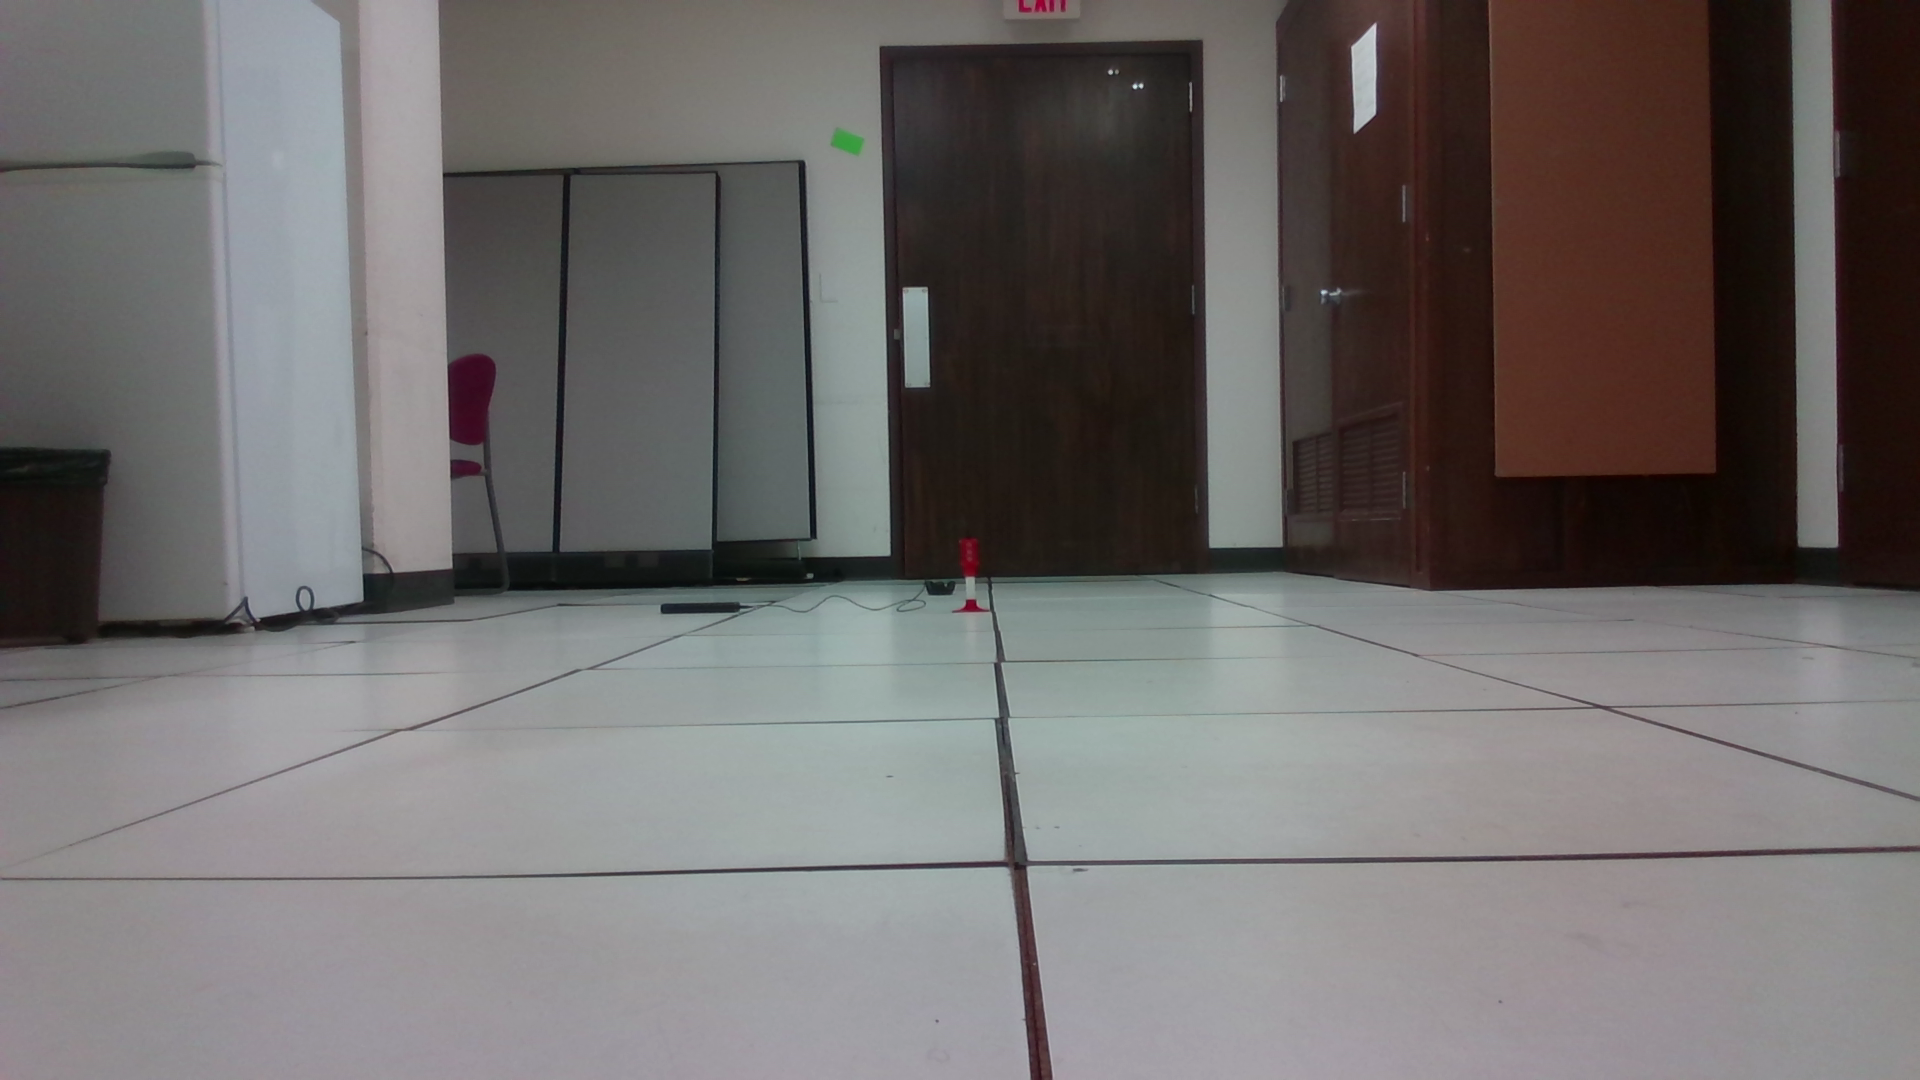stoplight: (957, 535, 980, 578)
